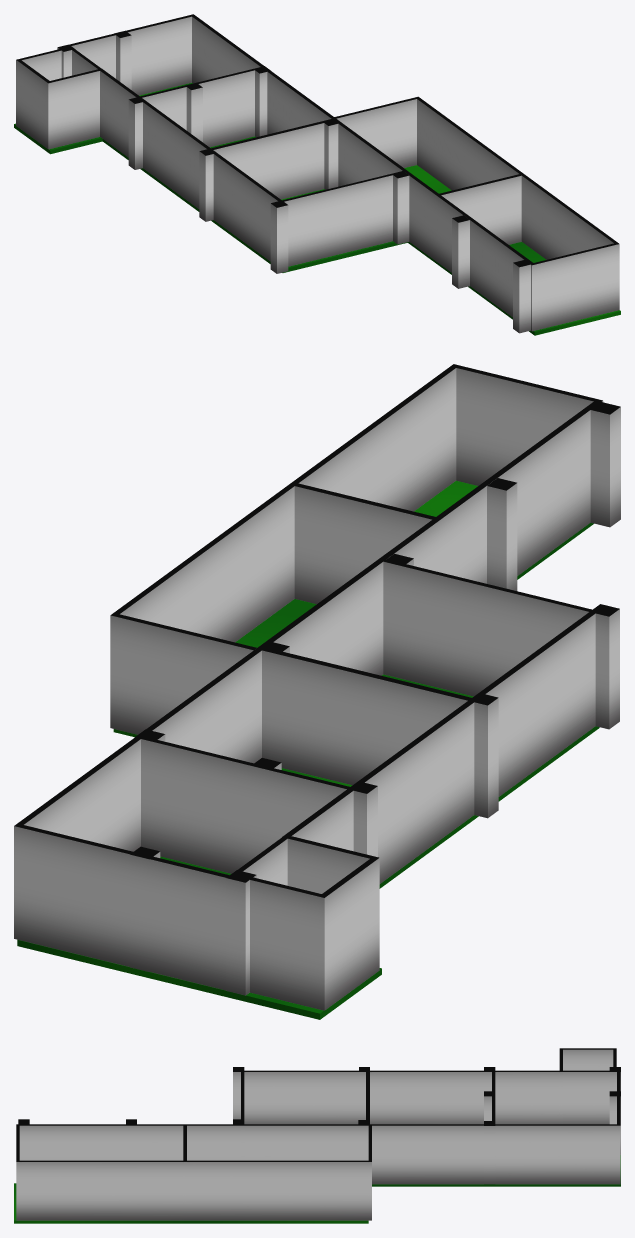
Rendered from soulbrain_T6-3-1B.glb.
3 renders of one model, top to bottom at view 1: azimuth 30°, elevation 25°; view 2: azimuth 150°, elevation 25°; view 3: azimuth 270°, elevation 25°, orthographic. The views are drawn at different scales.
Parts seen in each view (by area): view 1: Box222, Plane017; view 2: Box222, Plane017; view 3: Box222, Plane017.
Part boxes in pixels (bbox=[...]): Box222: bbox=[16, 14, 619, 333]; Plane017: bbox=[14, 83, 620, 335]; Box222: bbox=[14, 364, 620, 1010]; Plane017: bbox=[17, 480, 599, 1019]; Box222: bbox=[16, 1048, 620, 1220]; Plane017: bbox=[14, 1155, 620, 1223].
Size of the model in its own units: 15.04 by 3.8 by 33.88.
Materials: 3 (2 with a texture image).
